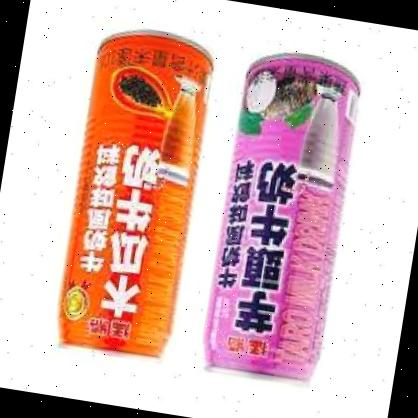can: (45, 20, 225, 367), (198, 44, 369, 394)
